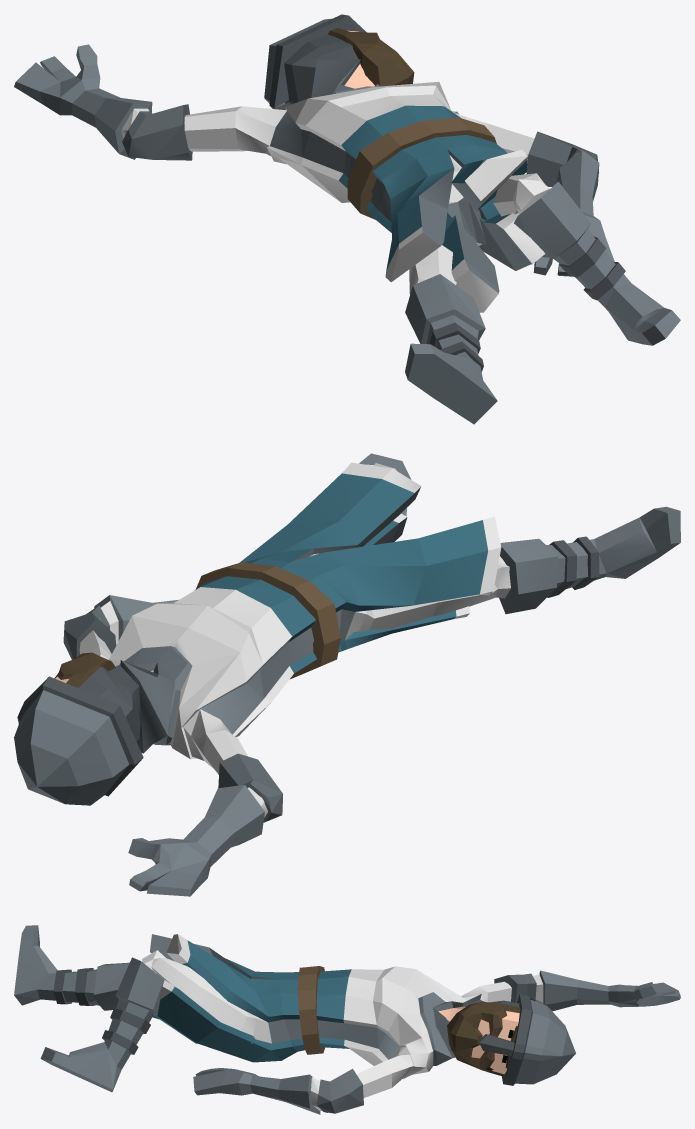
File: SM_Dead_Soldier_09.fbx
3 views of the same model, one above another, from view 1: azimuth 30°, elevation 25°; view 2: azimuth 150°, elevation 25°; view 3: azimuth 270°, elevation 25° (orthographic). The views are drawn at different scales.
Parts seen in each view (by area): view 1: SM_Dead_Soldier_09; view 2: SM_Dead_Soldier_09; view 3: SM_Dead_Soldier_09.
Boxes of the visible parts, x1,y1,x2,y2 form: SM_Dead_Soldier_09: [14, 14, 680, 424]; SM_Dead_Soldier_09: [14, 453, 680, 896]; SM_Dead_Soldier_09: [14, 925, 680, 1114].
Bounding box in the file's own units: 107 × 44.04 × 214.
